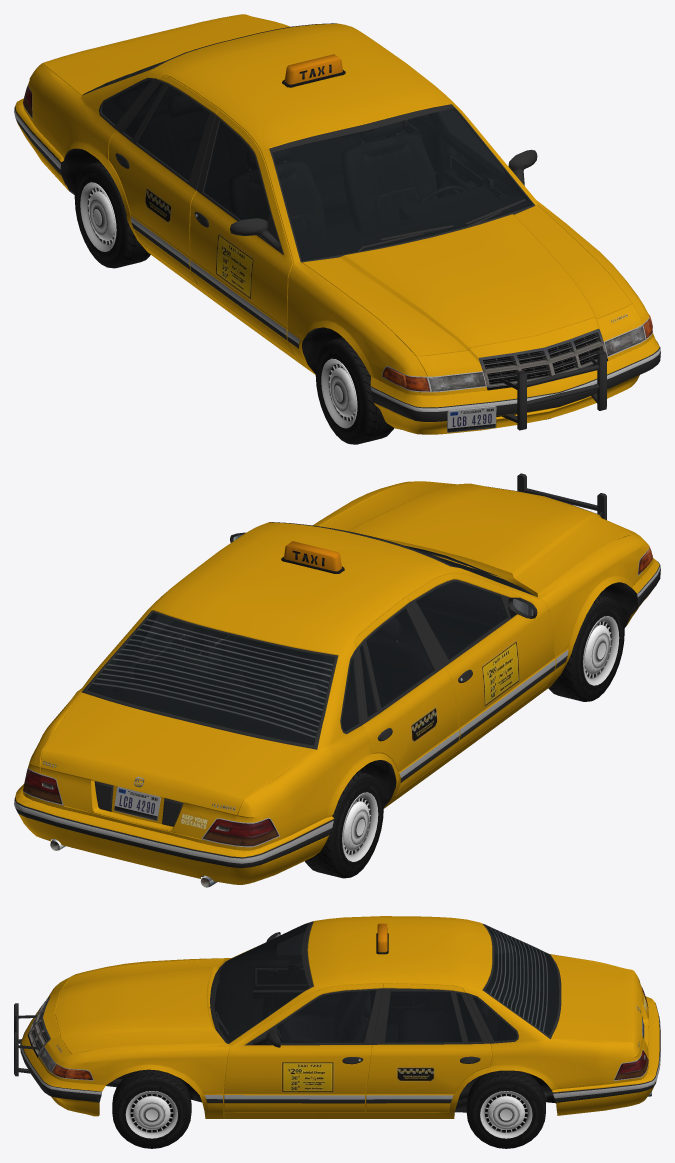
Rendered from illinois-90-taxi-1-low-poly-model-72d91f.glb.
3 views of the same model, one above another, from view 1: azimuth 30°, elevation 25°; view 2: azimuth 150°, elevation 25°; view 3: azimuth 270°, elevation 25° (orthographic). The views are drawn at different scales.
Visible parts, largest first — view 1: body, wheel-front-right, wheel-back-right; view 2: body, wheel-back-right, wheel-front-right; view 3: body, wheel-back-left, wheel-front-left.
Part boxes in pixels (x1,y1,x2,y2): body: (14, 14, 660, 434); wheel-front-right: (315, 337, 394, 444); wheel-back-right: (25, 89, 150, 268); body: (14, 473, 660, 887); wheel-back-right: (209, 771, 383, 878); wheel-front-right: (548, 595, 624, 701); body: (14, 916, 660, 1118); wheel-back-left: (466, 1051, 646, 1148); wheel-front-left: (112, 1069, 191, 1148).
Size of the model in its own units: 2.09 by 1.53 by 5.21.
Materials: 8 (8 with a texture image).
